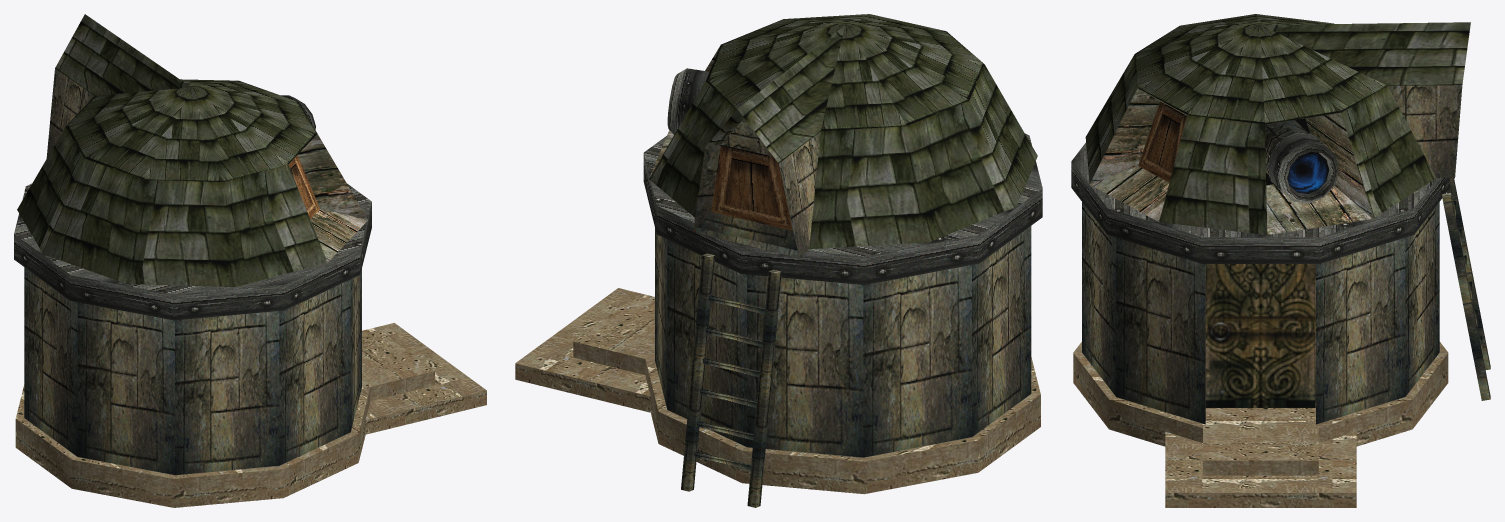
Rendered from House04.obj.
3 renders of one model, left to right at view 1: azimuth 30°, elevation 25°; view 2: azimuth 150°, elevation 25°; view 3: azimuth 270°, elevation 25°, orthographic. The views are drawn at different scales.
Parts seen in each view (by area): view 1: Mesh_4, Mesh_1, Mesh_3, Mesh_0, Mesh_5, Mesh_6; view 2: Mesh_1, Mesh_4, Mesh_3, Mesh_0, Mesh_6; view 3: Mesh_1, Mesh_4, Mesh_3, Mesh_2, Mesh_0, Mesh_5, Mesh_6, Mesh_8.
Boxes of the visible parts, bbox=[...] form: Mesh_4: bbox=[17, 14, 327, 286]; Mesh_1: bbox=[24, 68, 361, 475]; Mesh_3: bbox=[15, 323, 486, 507]; Mesh_0: bbox=[14, 95, 371, 320]; Mesh_5: bbox=[297, 134, 367, 262]; Mesh_6: bbox=[288, 155, 319, 218]; Mesh_1: bbox=[655, 118, 1031, 507]; Mesh_4: bbox=[649, 14, 1037, 249]; Mesh_3: bbox=[515, 288, 1040, 494]; Mesh_0: bbox=[643, 68, 1042, 284]; Mesh_6: bbox=[711, 145, 792, 230]; Mesh_1: bbox=[1082, 85, 1490, 424]; Mesh_4: bbox=[1085, 14, 1470, 234]; Mesh_3: bbox=[1073, 342, 1448, 507]; Mesh_2: bbox=[1205, 264, 1315, 407]; Mesh_0: bbox=[1071, 131, 1450, 263]; Mesh_5: bbox=[1089, 88, 1372, 234]; Mesh_6: bbox=[1138, 101, 1186, 182]; Mesh_8: bbox=[1287, 151, 1328, 193].
Bounding box in the file's own units: 5.03 × 4.15 × 4.4.
Materials: 9 (9 with a texture image).
